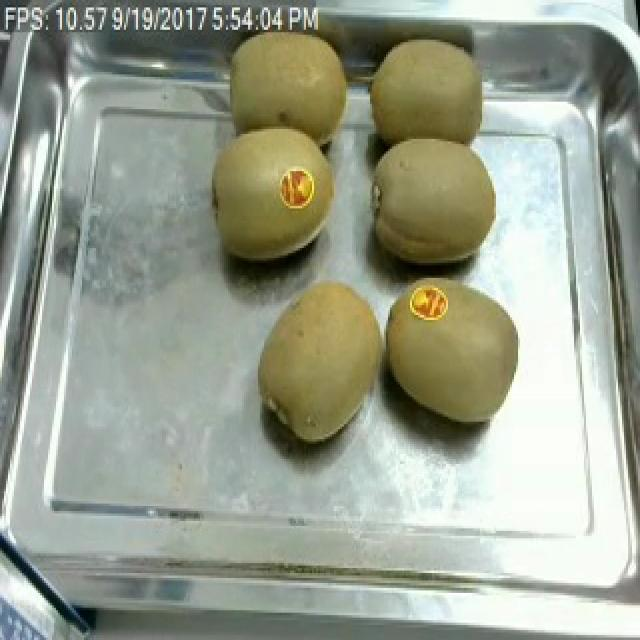Fruit: (248, 268, 394, 454), (376, 275, 528, 434), (360, 129, 508, 275), (360, 22, 498, 171), (216, 15, 358, 154), (200, 119, 326, 273)
